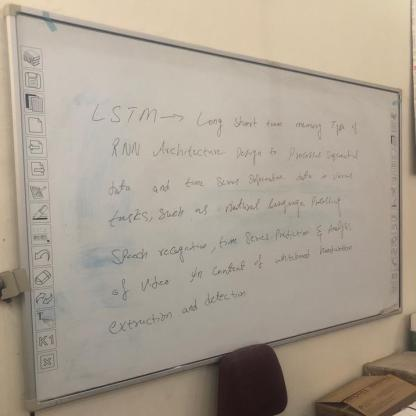Handwritten text: (101, 231, 362, 307), (104, 202, 362, 276), (100, 174, 353, 240), (96, 268, 285, 348), (88, 93, 368, 145), (101, 131, 370, 178), (98, 157, 362, 202)
Whiteboard: (11, 6, 402, 406)
